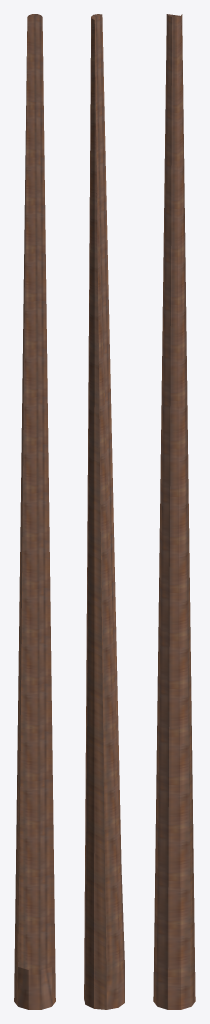
Rendered from HQmast.fbx.
3 renders of one model, left to right at view 1: azimuth 90°, elevation 25°; view 2: azimuth 150°, elevation 25°; view 3: azimuth 270°, elevation 25°, orthographic.
Visible parts, largest first — view 1: Mast; view 2: Mast; view 3: Mast.
Part boxes in pixels (x1,y1,x2,y2): Mast: [14, 14, 55, 1009]; Mast: [84, 14, 124, 1009]; Mast: [153, 14, 195, 1009].
Size of the model in its own units: 0.2057 by 0.2163 by 5.61.
Materials: 1 (1 with a texture image).
